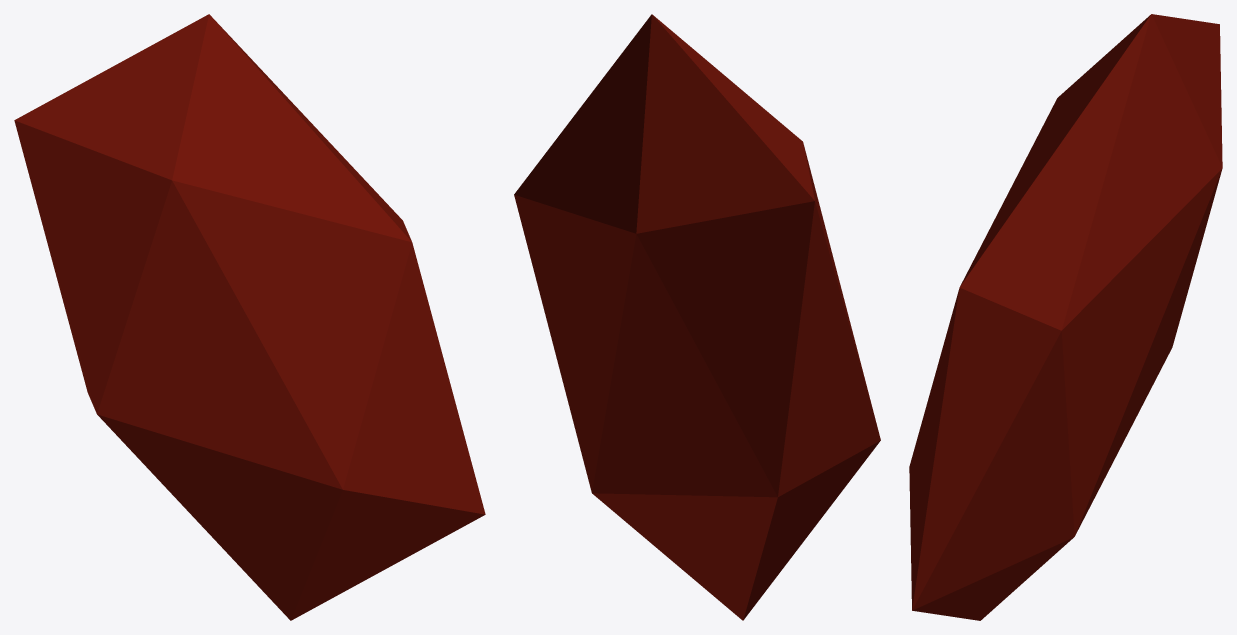
The model's file is Platonic_17.gltf.
3 renders of one model, left to right at view 1: azimuth 30°, elevation 25°; view 2: azimuth 150°, elevation 25°; view 3: azimuth 270°, elevation 25°, orthographic. The views are drawn at different scales.
Parts seen in each view (by area): view 1: Platonic_17; view 2: Platonic_17; view 3: Platonic_17.
Part boxes in pixels (bbox=[...]): Platonic_17: bbox=[14, 14, 485, 620]; Platonic_17: bbox=[514, 14, 880, 620]; Platonic_17: bbox=[909, 14, 1222, 620].
Size of the model in its own units: 17.4 by 27.67 by 12.98.
